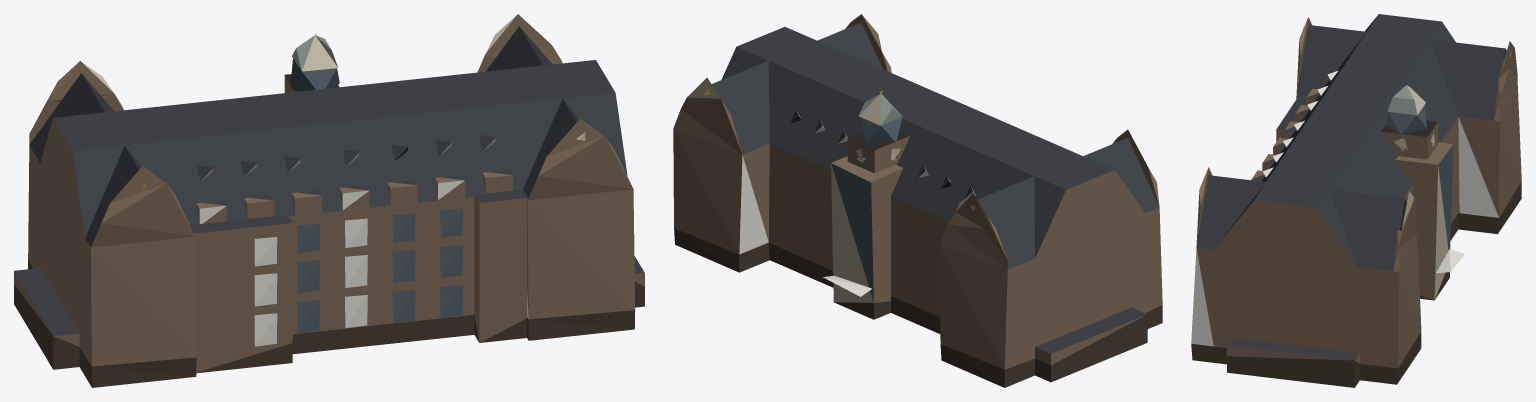
The model's file is lloyd-hotel.lod2.glb.
The picture shows the model from 3 angles, left to right: view 1: azimuth 30°, elevation 25°; view 2: azimuth 150°, elevation 25°; view 3: azimuth 270°, elevation 25°; orthographic projection. The views are drawn at different scales.
Visible parts, largest first — view 1: lod2; view 2: lod2; view 3: lod2.
Boxes of the visible parts, box(x1,y1,x2,y2) form: lod2: box(14, 14, 644, 387); lod2: box(673, 14, 1162, 387); lod2: box(1191, 14, 1521, 387).
Bounding box in the file's own units: 62.91 × 27.22 × 40.27.
